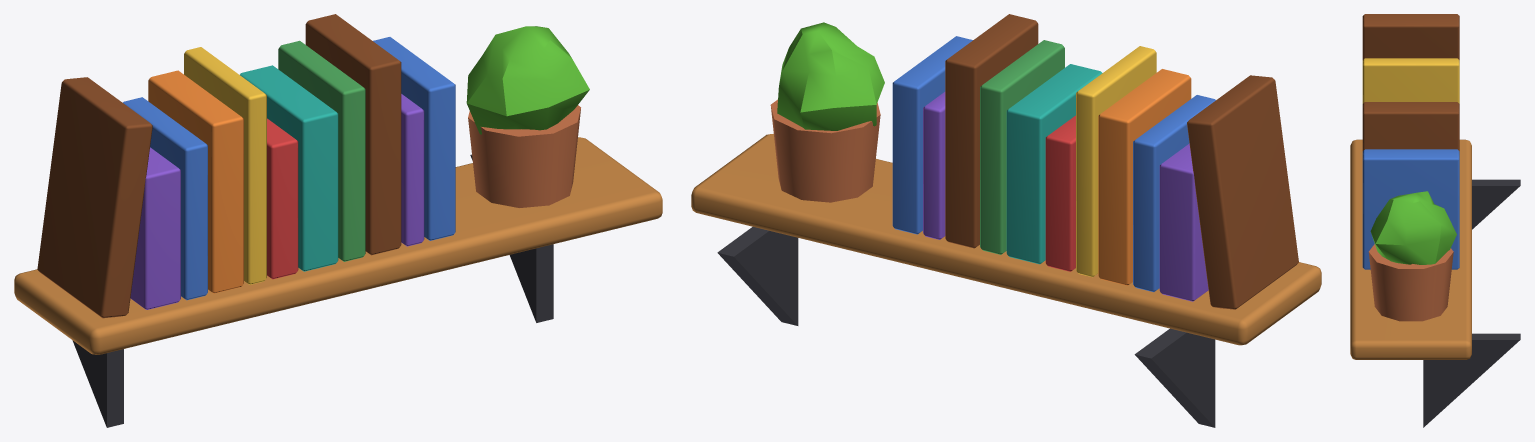
Rendered from WallShelf.fbx.
3 renders of one model, left to right at view 1: azimuth 30°, elevation 25°; view 2: azimuth 150°, elevation 25°; view 3: azimuth 270°, elevation 25°, orthographic. The views are drawn at different scales.
Parts seen in each view (by area): view 1: WallShelf; view 2: WallShelf; view 3: WallShelf.
Boxes of the visible parts, x1=… form: WallShelf: x1=14, y1=14, x2=662, y2=427; WallShelf: x1=691, y1=14, x2=1321, y2=427; WallShelf: x1=1350, y1=14, x2=1520, y2=427.
Bounding box in the file's own units: 4 × 2.25 × 1.4.
Materials: 1 (1 with a texture image).
